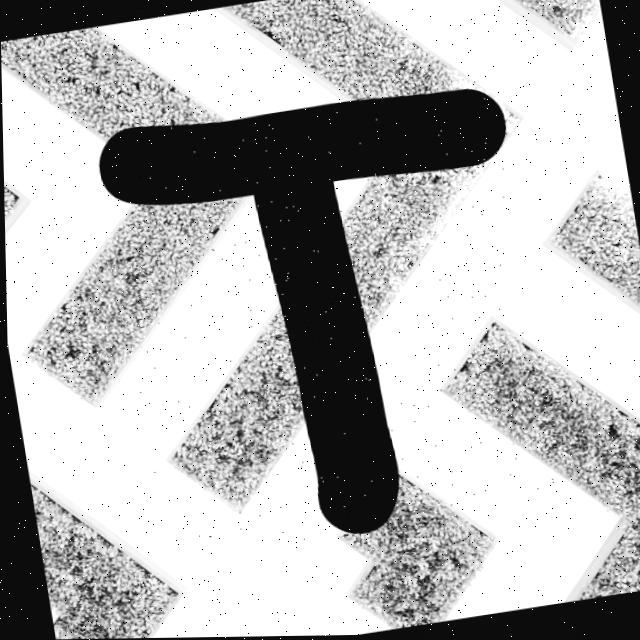T: (98, 89, 500, 535)
